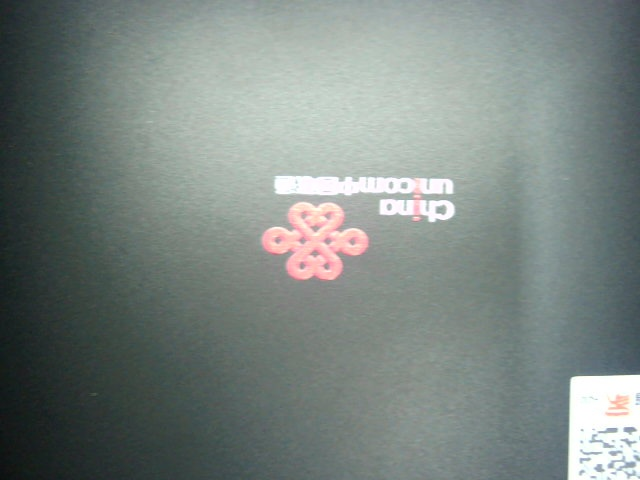AC_ChinaUnicom: (246, 169, 461, 284)
